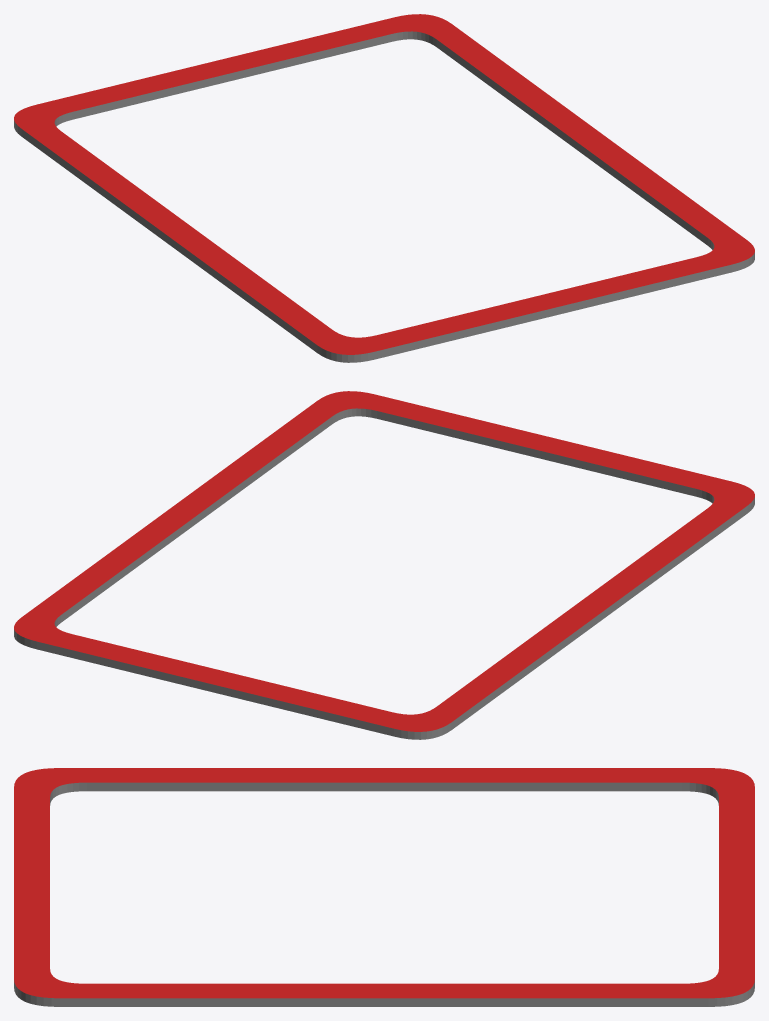
Rendered from Light.FBX.
The picture shows the model from 3 angles, top to bottom: view 1: azimuth 30°, elevation 25°; view 2: azimuth 150°, elevation 25°; view 3: azimuth 270°, elevation 25°; orthographic projection. The views are drawn at different scales.
Visible parts, largest first — view 1: Light; view 2: Light; view 3: Light.
Boxes of the visible parts, bbox=[...] form: Light: bbox=[14, 14, 754, 362]; Light: bbox=[14, 391, 754, 739]; Light: bbox=[14, 768, 754, 1006].
Size of the model in its own units: 121 by 2.11 by 164.
